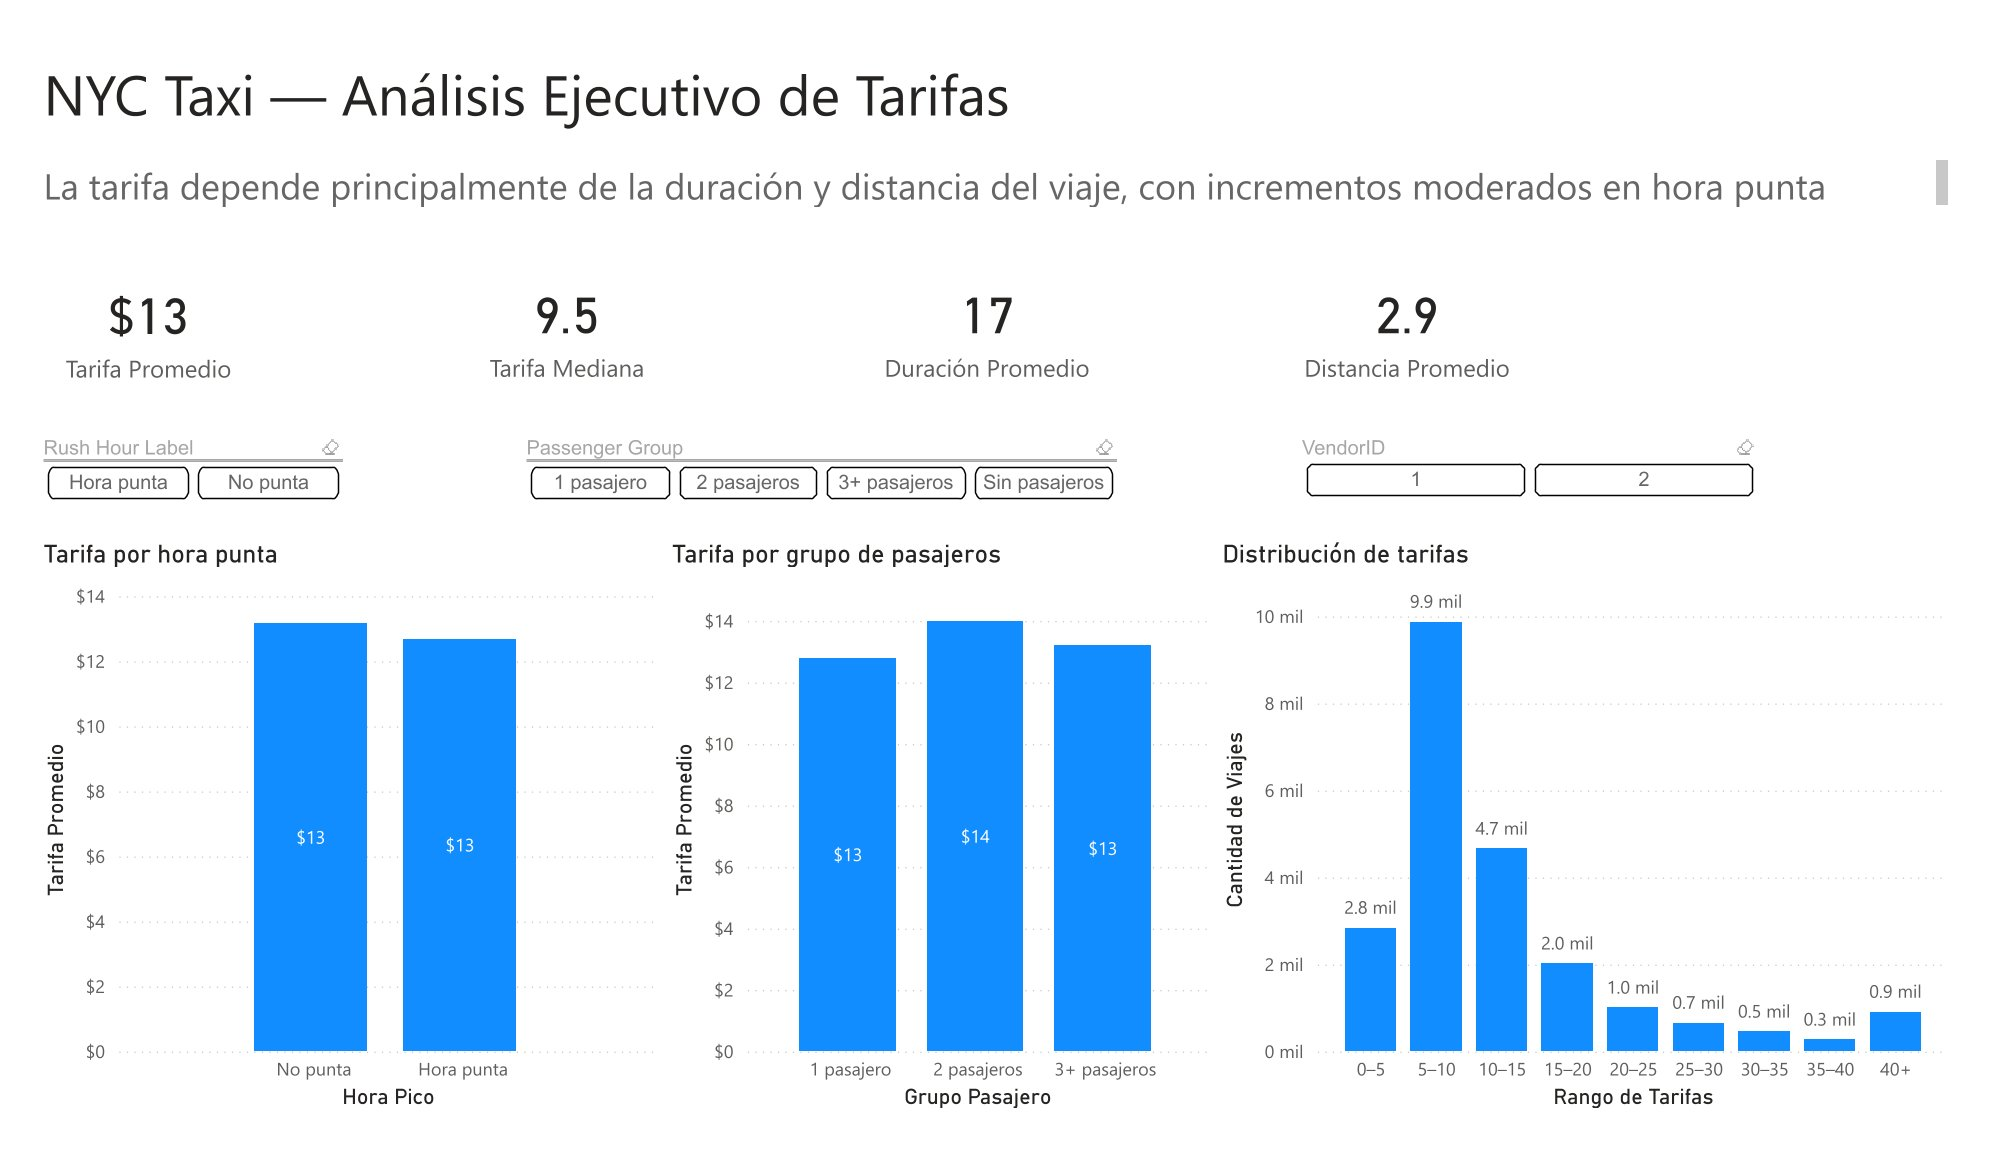

The dashboard page shown, as its layout file describes it:
{"tool":"powerbi","page":{"name":"Dashboard","canvas":[1280,720],"ordinal":0},"visuals":[{"type":"card","fields":{"Values":["Trips_Analytic.Avg Fare"]},"box":[0,118.7,149.8,150.9],"z":0},{"type":"card","fields":{"Values":["Trips_Analytic.Median Fare"]},"box":[279.4,118.7,150,150],"z":1000},{"type":"card","fields":{"Values":["Trips_Analytic.Avg Duration"]},"box":[559.1,118.7,150,150],"z":2000},{"type":"card","fields":{"Values":["Trips_Analytic.Avg Distance"]},"box":[838.7,118.7,150,150],"z":3000},{"type":"columnChart","title":"Tarifa por hora punta","fields":{"Category":["Trips_Analytic.Rush Hour Label"],"Y":["Trips_Analytic.Avg Fare"]},"box":[0,335.3,419.4,384.8],"z":4000},{"type":"columnChart","title":"Tarifa por grupo de pasajeros","fields":{"Category":["Trips_Analytic.Passenger Group"],"Y":["Trips_Analytic.Avg Fare"]},"box":[419.4,335.3,366.4,384.8],"z":5000},{"type":"ChicletSlicer1448559807354","fields":{"Category":["Trips_Analytic.Rush Hour Label"]},"box":[0,261.5,209.7,66.8],"z":6000},{"type":"ChicletSlicer1448559807354","fields":{"Category":["Trips_Analytic.Passenger Group"]},"box":[322,261.5,404.4,66.8],"z":7000},{"type":"ChicletSlicer1448559807354","fields":{"Category":["Trips_Analytic.VendorID"]},"box":[838.7,261.5,314.5,66.8],"z":8000},{"type":"textbox","box":[0,7.8,1280,69.9],"z":9000},{"type":"textbox","box":[1130,335,150,166],"z":10000},{"type":"textbox","box":[1130,501,150,219],"z":11000},{"type":"textbox","box":[0,77.7,1280,41.1],"z":12000},{"type":"clusteredColumnChart","title":"Distribución de tarifas","fields":{"Y":["Trips_Analytic.Trips Count"],"Category":["Trips_Analytic.Rango Tarifa Visual"]},"box":[785.7,335.3,494.3,384.8],"z":13000}]}

Visuals, with their boxes in screenshot pixels (x1, y1, x2, y2), scaled from the page's 1280x720 canvas onto the 1992x1152 screenshot:
card - Trips_Analytic.Avg Fare: 0/190/233/431
card - Trips_Analytic.Median Fare: 435/190/668/430
card - Trips_Analytic.Avg Duration: 870/190/1104/430
card - Trips_Analytic.Avg Distance: 1305/190/1539/430
"Tarifa por hora punta" columnChart: 0/536/653/1151
"Tarifa por grupo de pasajeros" columnChart: 653/536/1223/1151
ChicletSlicer1448559807354 - Trips_Analytic.Rush Hour Label: 0/418/326/525
ChicletSlicer1448559807354 - Trips_Analytic.Passenger Group: 501/418/1130/525
ChicletSlicer1448559807354 - Trips_Analytic.VendorID: 1305/418/1795/525
textbox: 0/12/1991/124
textbox: 1759/536/1991/802
textbox: 1759/802/1991/1151
textbox: 0/124/1991/190
"Distribución de tarifas" clusteredColumnChart: 1223/536/1991/1151
